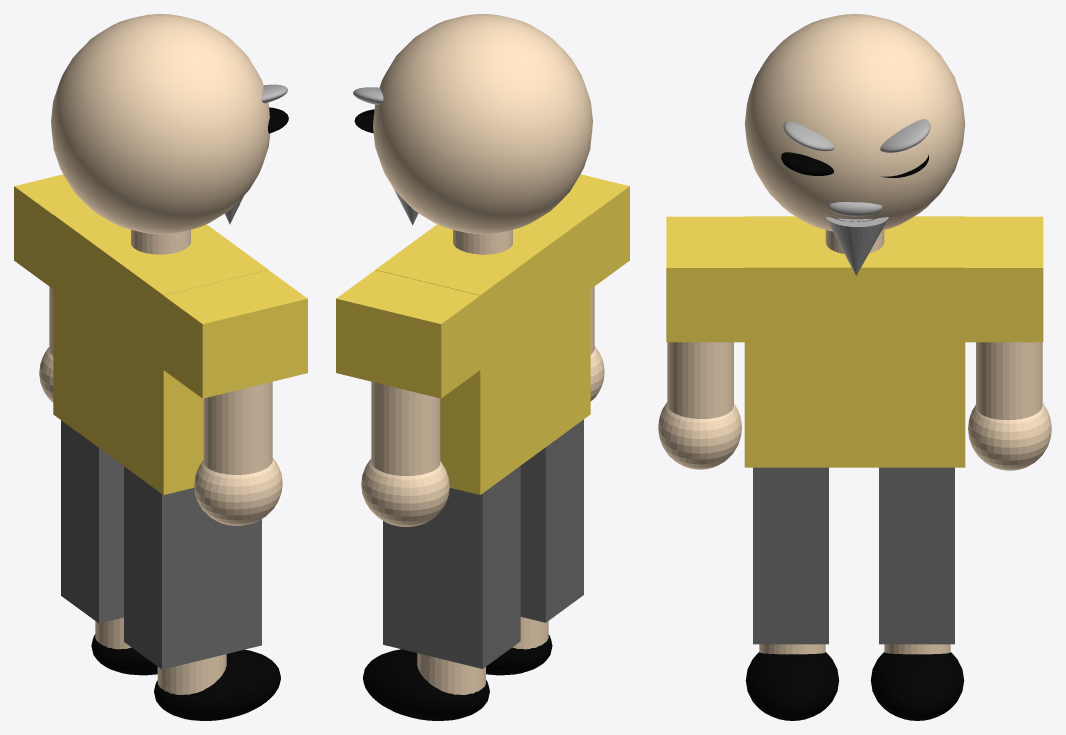
The model's file is Dylan.fbx.
The picture shows the model from 3 angles, left to right: view 1: azimuth 30°, elevation 25°; view 2: azimuth 150°, elevation 25°; view 3: azimuth 270°, elevation 25°; orthographic projection.
Visible parts, largest first — view 1: Cube.001, Sphere.018, Cone, Sphere.015, Cylinder, Sphere.014; view 2: Cube.001, Sphere.018, Cone, Sphere.014, Cylinder, Sphere.015; view 3: Cube.001, Sphere.018, Cone, Sphere.014, Sphere.015, Sphere.003.
Part boxes in pixels (x1,y1,x2,y2): Cube.001: [14, 174, 307, 494]; Sphere.018: [61, 420, 280, 720]; Cone: [51, 14, 287, 234]; Sphere.015: [194, 381, 282, 525]; Cylinder: [131, 229, 190, 254]; Sphere.014: [39, 286, 53, 402]; Cube.001: [336, 174, 629, 494]; Sphere.018: [363, 419, 583, 720]; Cone: [353, 14, 592, 234]; Sphere.014: [361, 381, 449, 526]; Cylinder: [453, 229, 512, 254]; Sphere.015: [590, 286, 604, 401]; Cube.001: [666, 216, 1043, 467]; Sphere.018: [745, 467, 964, 720]; Cone: [744, 14, 965, 275]; Sphere.014: [968, 342, 1051, 470]; Sphere.015: [658, 342, 741, 469]; Sphere.003: [781, 152, 833, 175].
Bounding box in the file's own units: 207 × 673 × 357.
